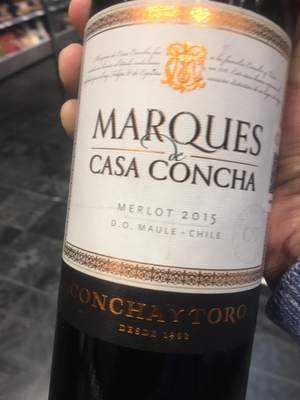marques de casa concha merlot: (63, 1, 295, 389)
